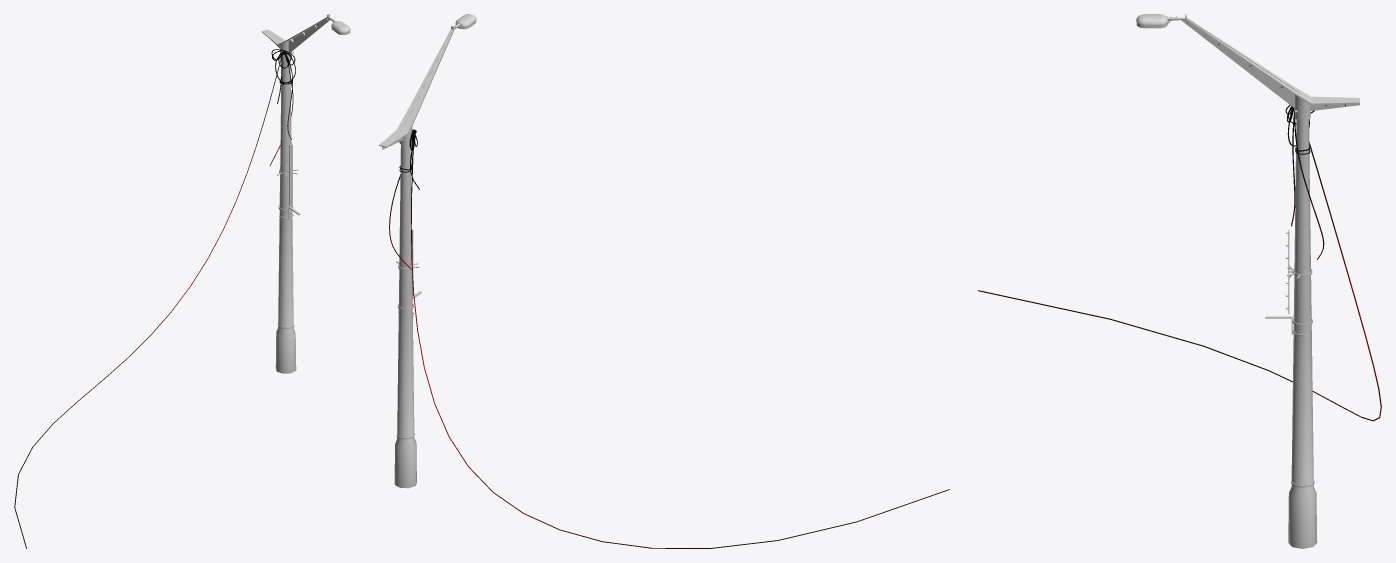
The model's file is LightPoles02.fbx.
3 renders of one model, left to right at view 1: azimuth 30°, elevation 25°; view 2: azimuth 150°, elevation 25°; view 3: azimuth 270°, elevation 25°, orthographic. The views are drawn at different scales.
Parts seen in each view (by area): view 1: LightPole_01, PowerCable_04; view 2: LightPole_01, PowerCable_04; view 3: LightPole_01, PowerCable_04.
Boxes of the visible parts, x1,y1,x2,y2 form: LightPole_01: [261, 14, 350, 373]; PowerCable_04: [14, 52, 295, 548]; LightPole_01: [379, 14, 476, 488]; PowerCable_04: [410, 133, 949, 548]; LightPole_01: [1136, 14, 1359, 548]; PowerCable_04: [978, 107, 1381, 421].
Bounding box in the file's own units: 1046 × 1005 × 688.
